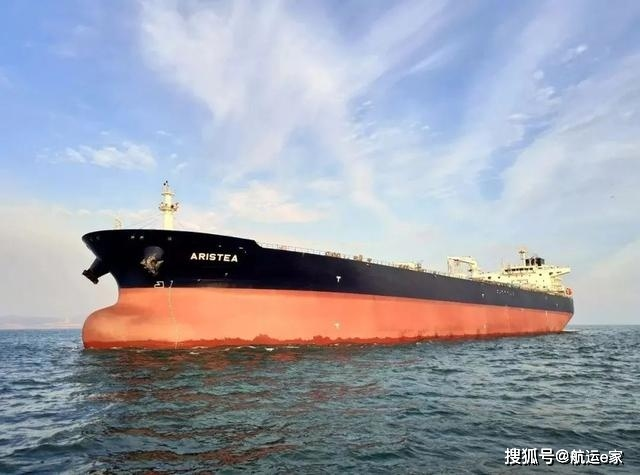Cargoship: (73, 188, 580, 352)
